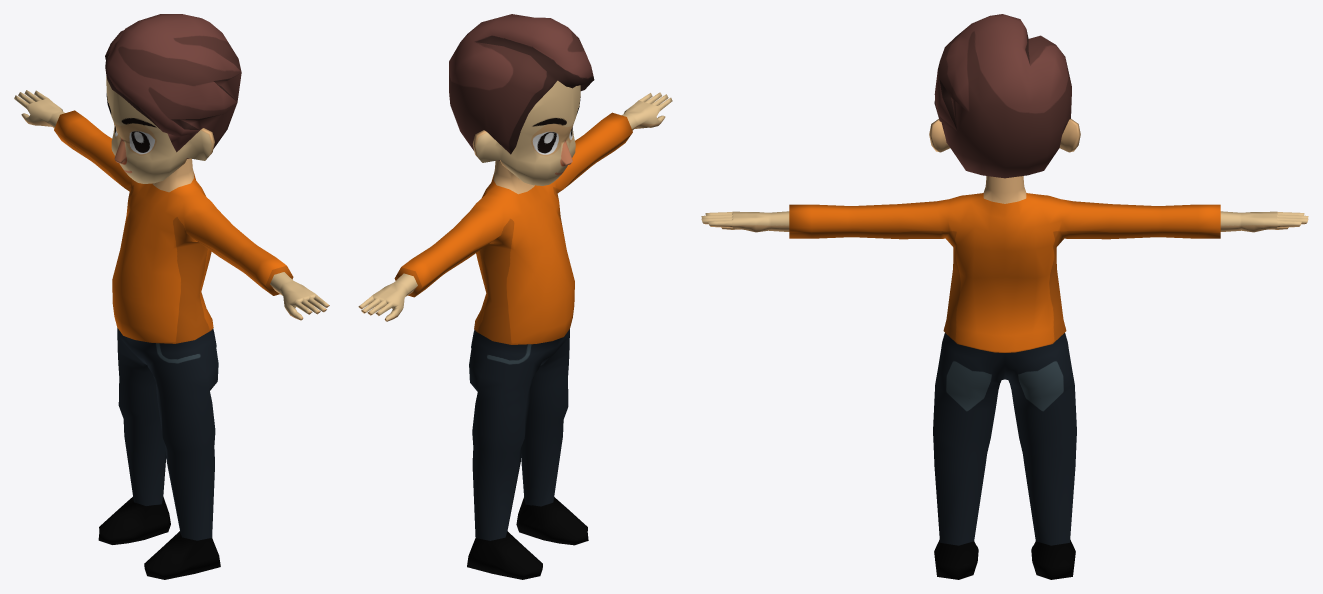
File: boy_6.fbx
3 views of the same model, side by side, from view 1: azimuth 30°, elevation 25°; view 2: azimuth 150°, elevation 25°; view 3: azimuth 270°, elevation 25° (orthographic). The views are drawn at different scales.
Visible parts, largest first — view 1: boy6; view 2: boy6; view 3: boy6.
Boxes of the visible parts, x1,y1,x2,y2 form: boy6: (14, 14, 329, 579); boy6: (358, 14, 672, 579); boy6: (701, 14, 1308, 579).
Bounding box in the file's own units: 36.02 × 147 × 150.
Materials: 1 (1 with a texture image).
